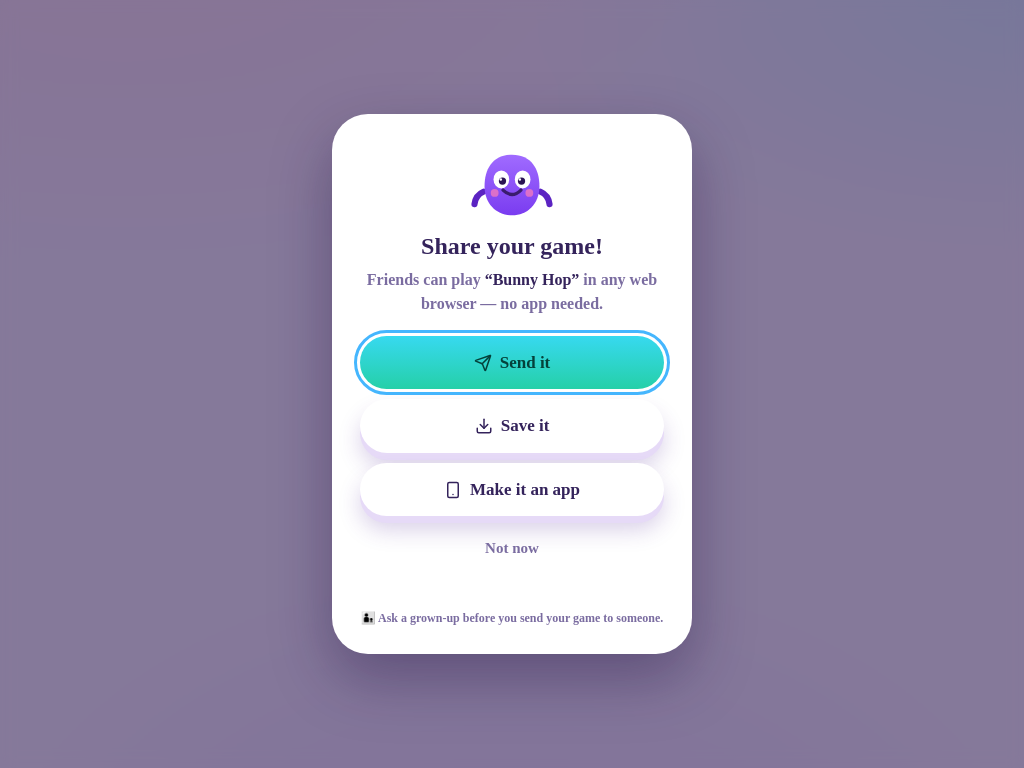
Scenario: ShareDialog › offers saving when sending fails
Click the button "Send it": [512, 363] box [360, 336, 664, 389]
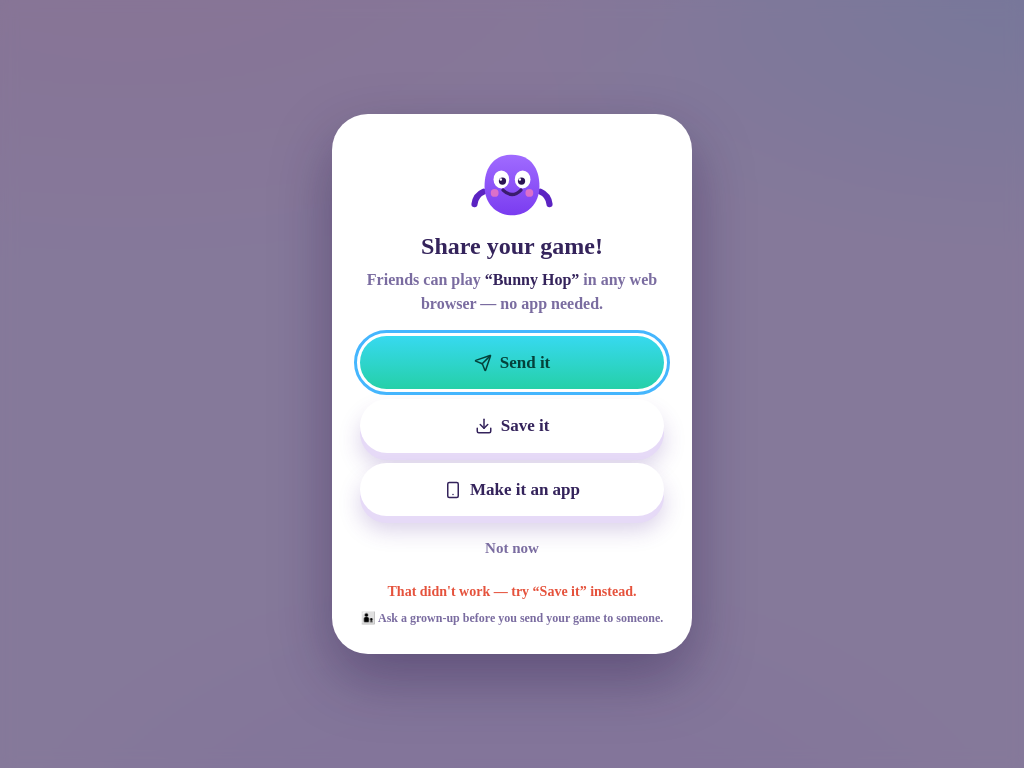
Expected: the text "That didn't work — try “Save it” instead." is shown, [388, 584, 636, 599]
